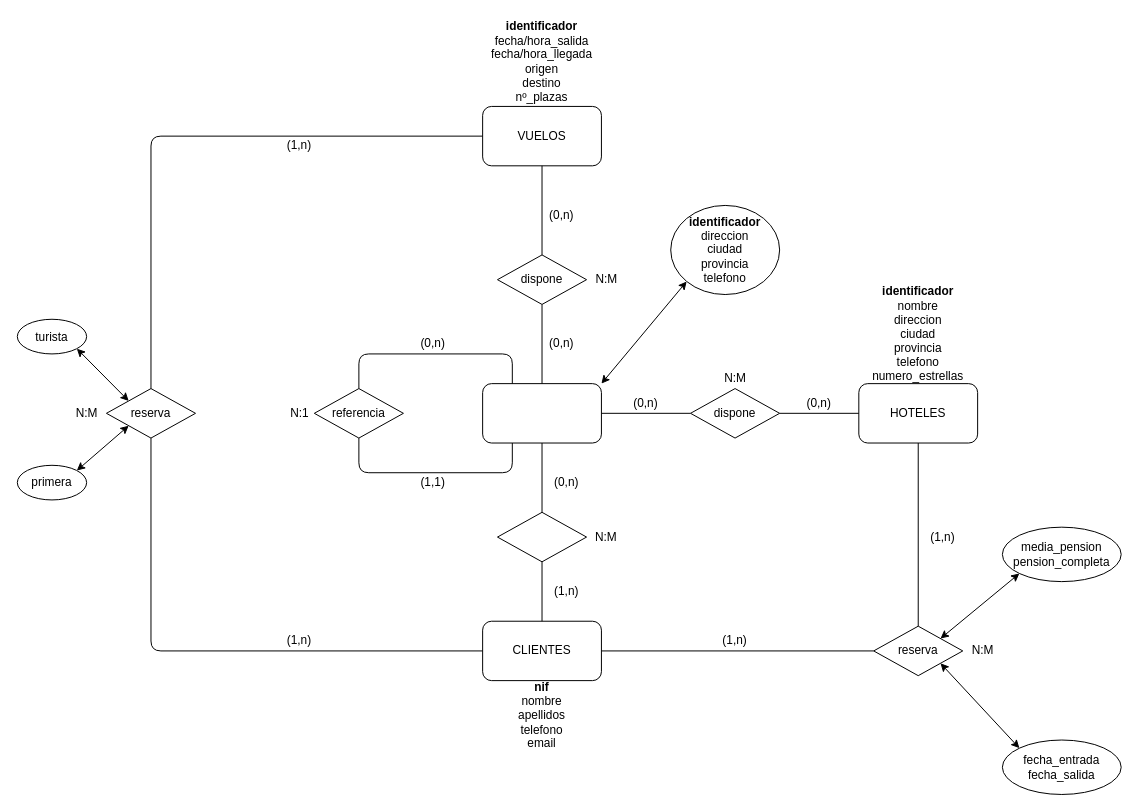
Image size: 1139x812. Some labels were removed from this diagram. The shapes that lost their labels are listed below. From the top down, each one's box as (x1, y1, x2, y2) in pixels, then its label:
(482, 383, 601, 443): SUCURSALES
(496, 511, 587, 562): pasan
